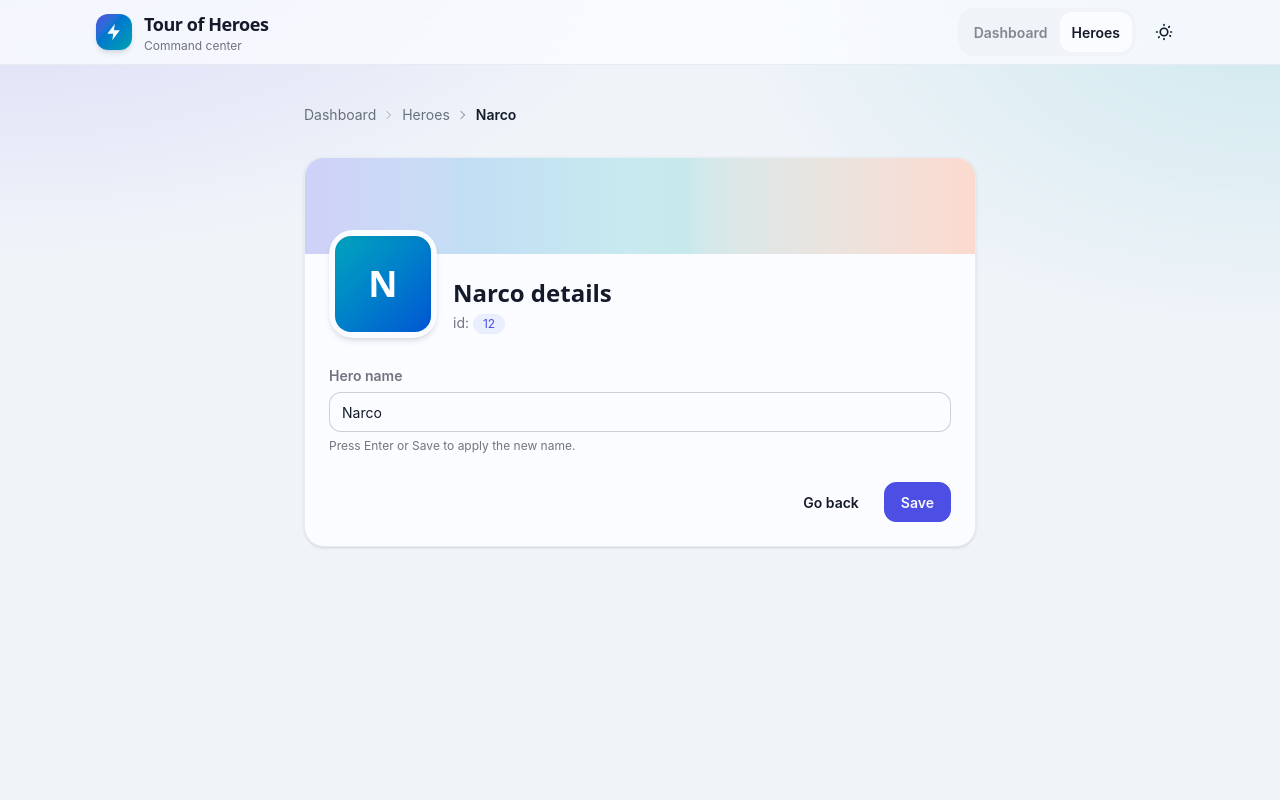
Test: Tour of Heroes › keeps detail navigation in-app when opened directly
Expected: the heading "Narco details" is shown, x1=453 y1=277 x2=612 y2=309
Expected: the checkbox named "Toggle color theme" is shown, x1=1144 y1=12 x2=1184 y2=52
Replace the text in the field labelled "Hero name" with "Narco Prime" at (640, 412), box x1=329 y1=392 x2=951 y2=432
Then press Enter
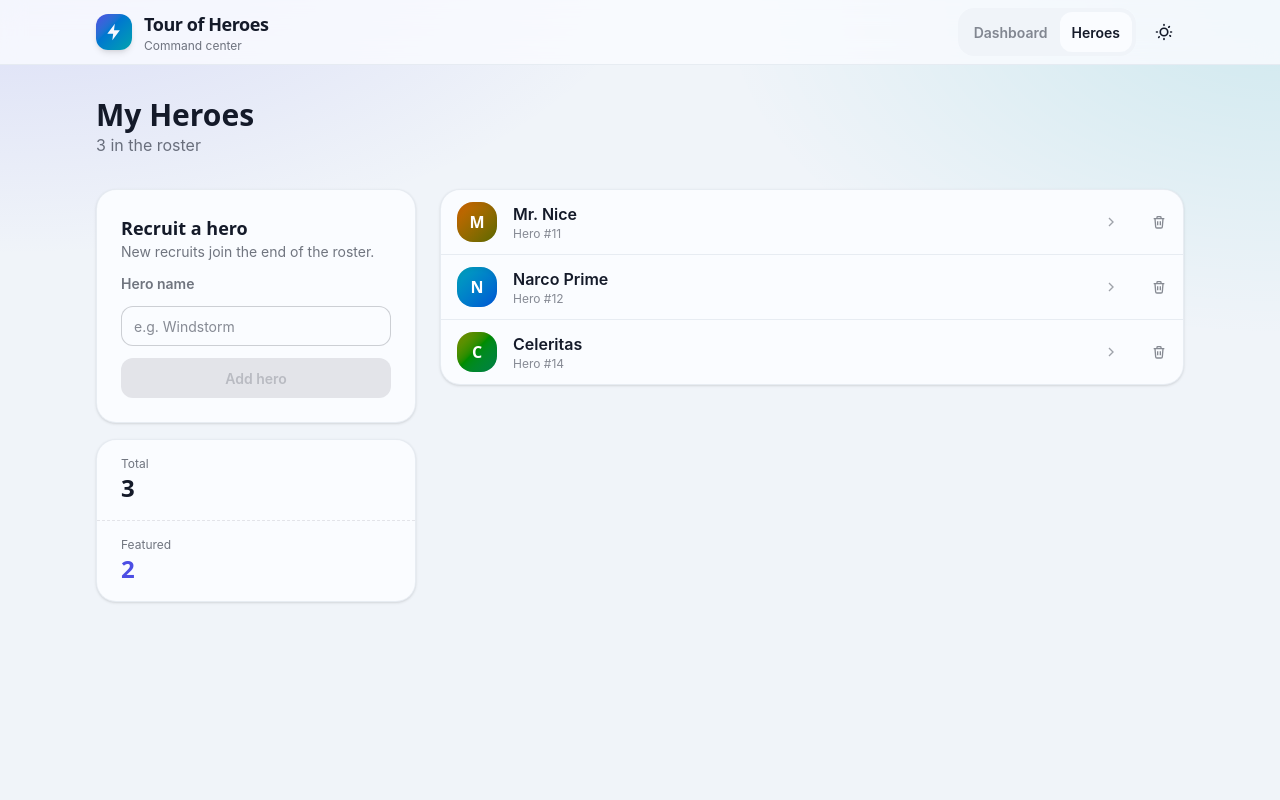
Expected: the heading "My Heroes" is shown, x1=96 y1=94 x2=254 y2=135
Expected: the text "Narco Prime" is shown, x1=513 y1=269 x2=608 y2=289
